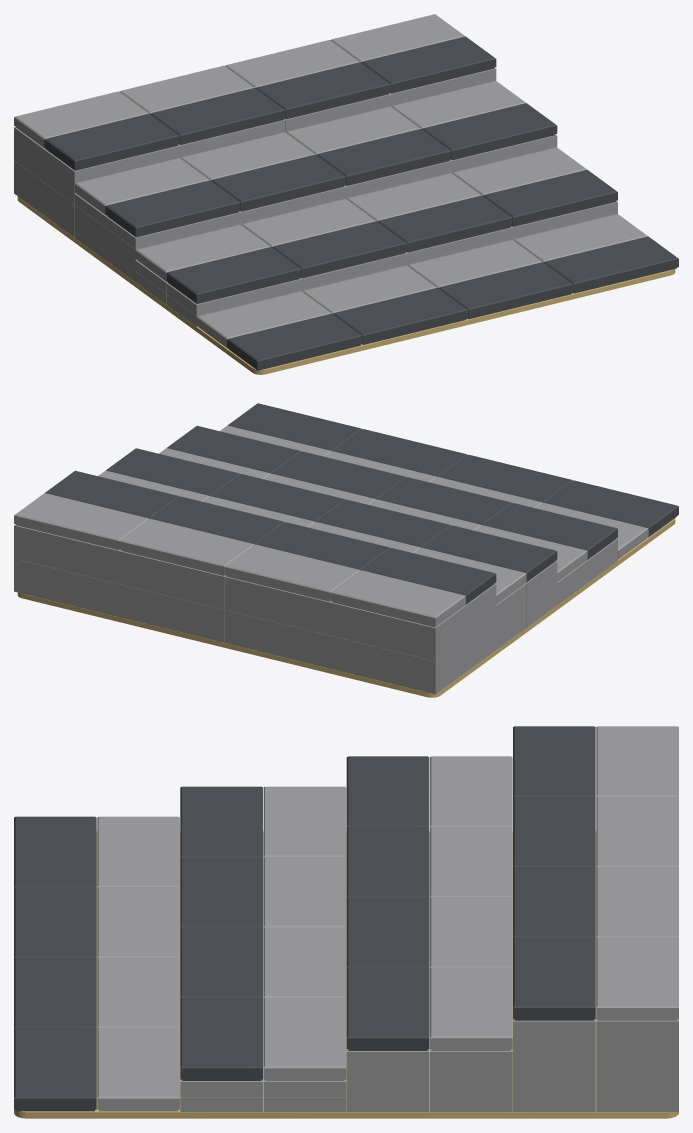
Rendered from testTreppen.fbx.
The picture shows the model from 3 angles, top to bottom: view 1: azimuth 30°, elevation 25°; view 2: azimuth 150°, elevation 25°; view 3: azimuth 270°, elevation 25°; orthographic projection. The views are drawn at different scales.
Visible parts, largest first — view 1: Stairs4, Stairs3, Stairs2, Stairs1, Baseplate; view 2: Stairs4, Stairs3, Stairs2, Stairs1, Baseplate; view 3: Stairs4, Stairs3, Stairs2, Stairs1, Baseplate.
Part boxes in pixels (x1,y1,x2,y2): Stairs4: (14,14,496,237); Stairs3: (75,81,557,281); Stairs2: (135,147,617,326); Stairs1: (196,214,678,370); Baseplate: (17,196,675,374); Stairs4: (14,470,496,694); Stairs3: (98,448,557,649); Stairs2: (159,425,617,604); Stairs1: (220,403,678,559); Baseplate: (17,518,675,697); Stairs4: (513,726,678,1111); Stairs3: (346,756,512,1111); Stairs2: (180,786,346,1111); Stairs1: (14,816,179,1111); Baseplate: (14,831,678,1118).
Bounding box in the file's own units: 12792 × 2376 × 12792.
